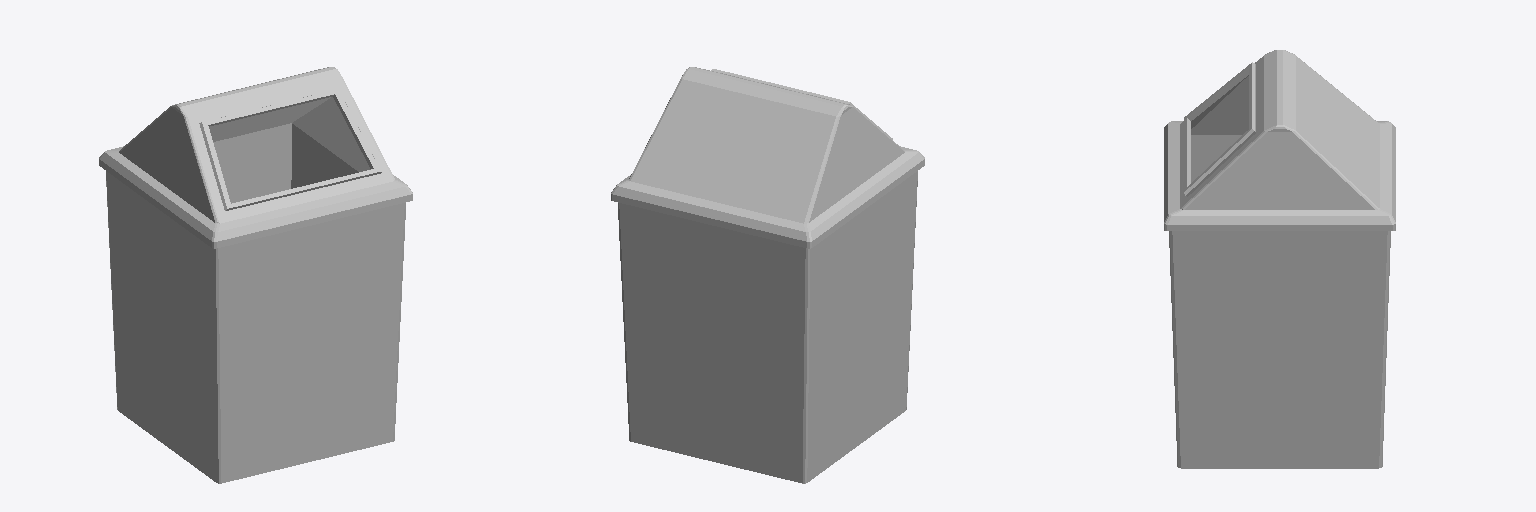
The model's file is Gear Recycler.obj.
3 views of the same model, side by side, from view 1: azimuth 30°, elevation 25°; view 2: azimuth 150°, elevation 25°; view 3: azimuth 270°, elevation 25° (orthographic).
Visible parts, largest first — view 1: Handle1; view 2: Handle1; view 3: Handle1.
Part boxes in pixels (x1,y1,x2,y2): Handle1: (99,67,412,483); Handle1: (611,67,924,483); Handle1: (1164,50,1395,468).
Bounding box in the file's own units: 4.77 × 7.67 × 4.77.